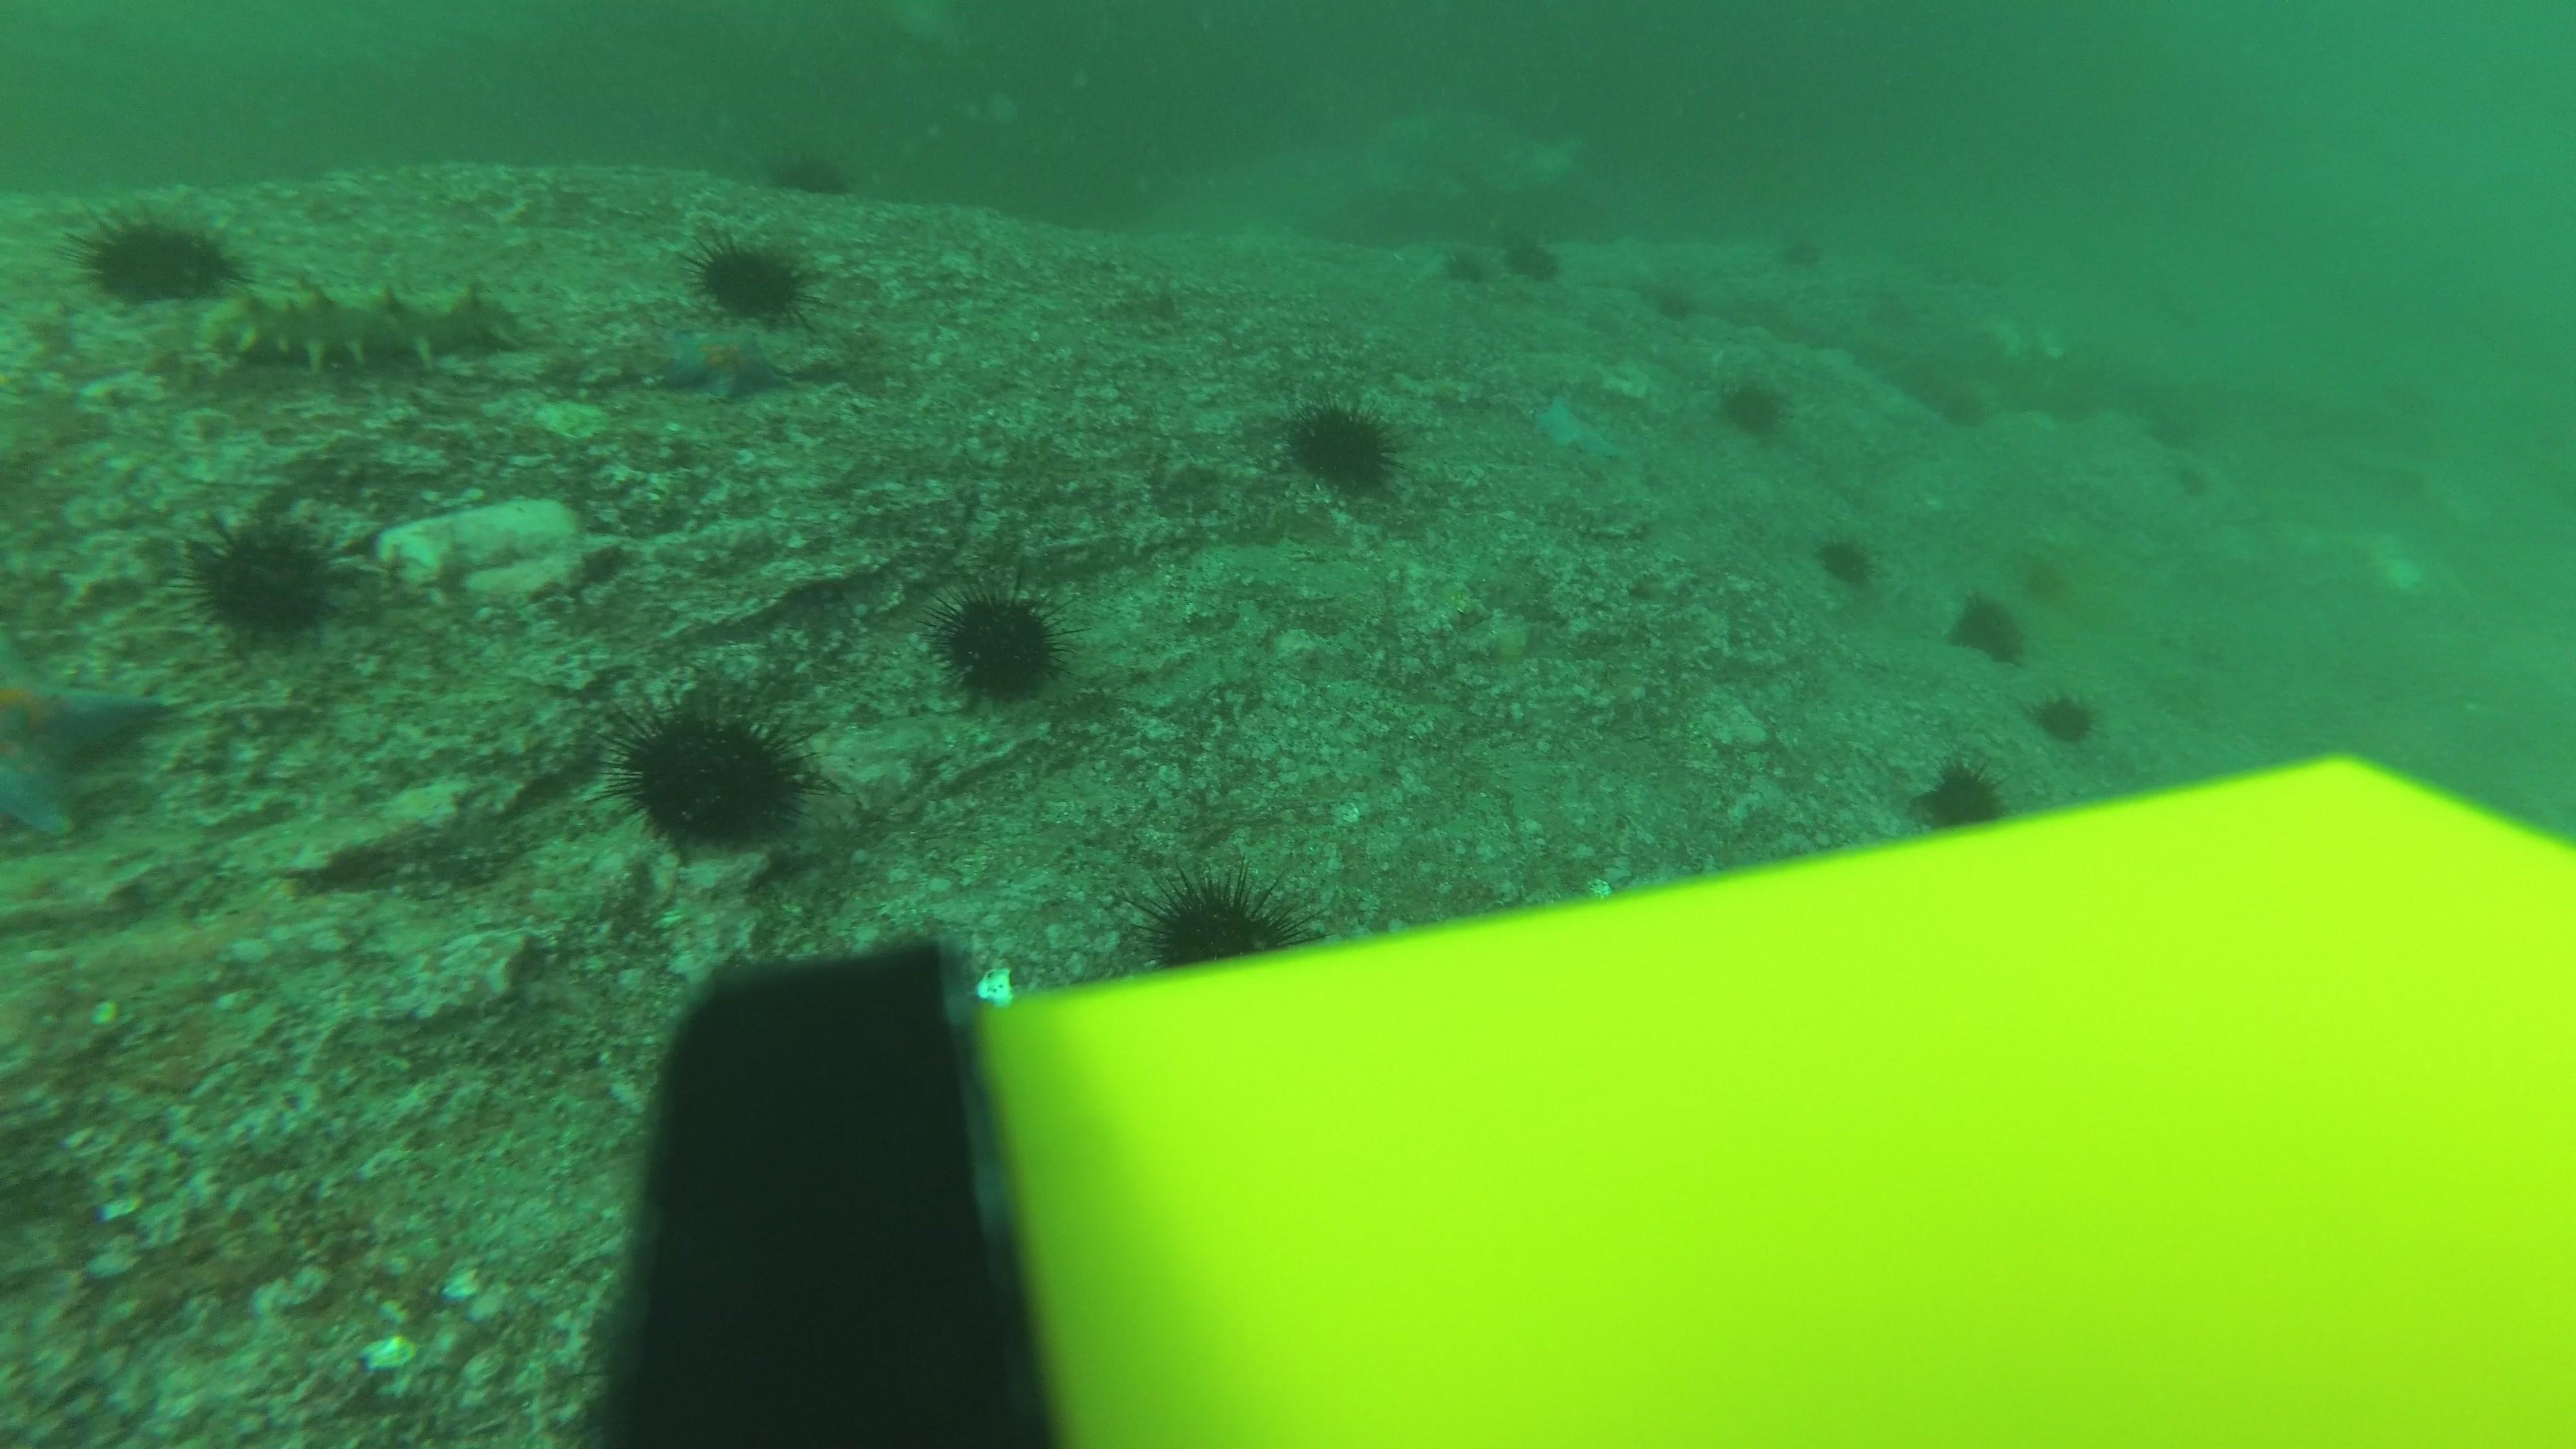echinus: (607, 692, 816, 855), (184, 511, 345, 644), (76, 203, 241, 310), (1139, 867, 1306, 970), (931, 582, 1067, 706), (1284, 395, 1403, 497), (694, 230, 812, 322), (1911, 755, 2010, 833), (1948, 589, 2029, 665), (1647, 274, 1725, 345), (1842, 280, 1920, 350), (1764, 216, 1840, 287), (1714, 370, 1792, 439), (2137, 395, 2215, 464), (1920, 379, 1996, 448), (2148, 272, 2224, 341), (770, 140, 849, 198), (2033, 686, 2100, 747), (1813, 527, 1877, 589), (1499, 228, 1564, 287), (1438, 239, 1493, 290)
holothurian: (202, 269, 527, 382)
starfish: (0, 617, 177, 847), (649, 322, 794, 405), (1530, 386, 1624, 467)
